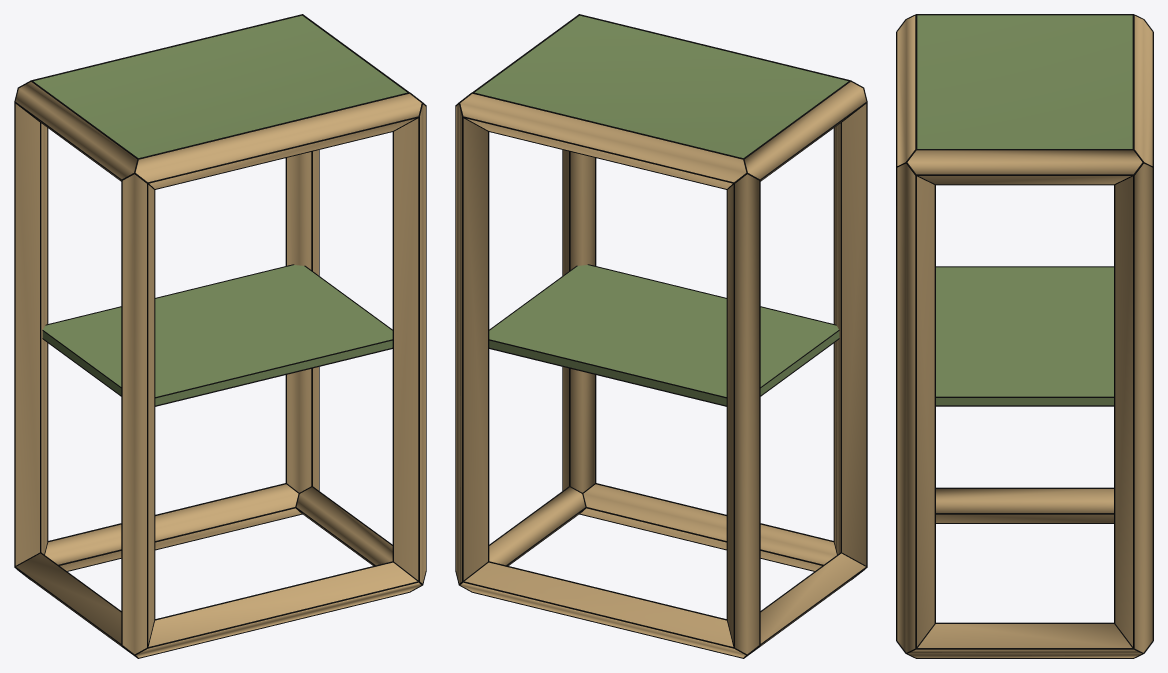
File: bureau-500.glb
3 views of the same model, side by side, from view 1: azimuth 30°, elevation 25°; view 2: azimuth 150°, elevation 25°; view 3: azimuth 270°, elevation 25° (orthographic).
Parts seen in each view (by area): view 1: panneau-dessus_exterieur, mod-shelf-0, arete-Z0, arete-Z2, arete-Z1, arete-X2, arete-X0, arete-Z3, arete-X1, arete-Y2, arete-Y0, arete-Y1 (+11 smaller); view 2: panneau-dessus_exterieur, mod-shelf-0, arete-Z2, arete-Z0, arete-Z3, arete-X3, arete-X1, arete-Z1, arete-X0, arete-Y2, arete-Y0, arete-Y1 (+11 smaller); view 3: panneau-dessus_exterieur, mod-shelf-0, arete-Z1, arete-Z3, arete-Y3, arete-Y1, arete-Y0, arete-wire-Z1, arete-wire-Z3, arete-X2, arete-X3, arete-wire-Y3 (+6 smaller).
Boxes of the visible parts, <box> form: panneau-dessus_exterieur: <box>33,15,406,157</box>; mod-shelf-0: <box>42,265,392,405</box>; arete-Z0: <box>122,174,154,654</box>; arete-Z2: <box>15,104,47,565</box>; arete-Z1: <box>394,104,425,583</box>; arete-X2: <box>135,93,421,188</box>; arete-X0: <box>136,562,421,657</box>; arete-Z3: <box>287,150,318,492</box>; arete-X1: <box>45,484,301,570</box>; arete-Y2: <box>15,82,137,180</box>; arete-Y0: <box>16,553,121,645</box>; arete-Y1: <box>296,487,392,565</box>; panneau-dessus_exterieur: <box>475,15,848,157</box>; mod-shelf-0: <box>489,265,839,405</box>; arete-Z2: <box>727,174,759,654</box>; arete-Z0: <box>834,104,866,565</box>; arete-Z3: <box>456,104,487,583</box>; arete-X3: <box>460,93,746,188</box>; arete-X1: <box>460,562,745,657</box>; arete-Z1: <box>563,150,594,492</box>; arete-X0: <box>580,484,836,570</box>; arete-Y2: <box>744,82,866,180</box>; arete-Y0: <box>760,553,865,645</box>; arete-Y1: <box>489,487,585,565</box>; panneau-dessus_exterieur: <box>917,15,1132,148</box>; mod-shelf-0: <box>936,267,1113,405</box>; arete-Z1: <box>897,163,934,652</box>; arete-Z3: <box>1115,163,1152,652</box>; arete-Y3: <box>907,150,1142,184</box>; arete-Y1: <box>908,624,1141,657</box>; arete-Y0: <box>936,489,1113,522</box>; arete-wire-Z1: <box>896,162,935,648</box>; arete-wire-Z3: <box>1114,167,1153,648</box>; arete-X2: <box>897,16,915,165</box>; arete-X3: <box>1134,16,1152,165</box>; arete-wire-Y3: <box>916,149,1143,185</box>.
Size of the model in its own units: 0.5309 by 0.8309 by 0.3809.
